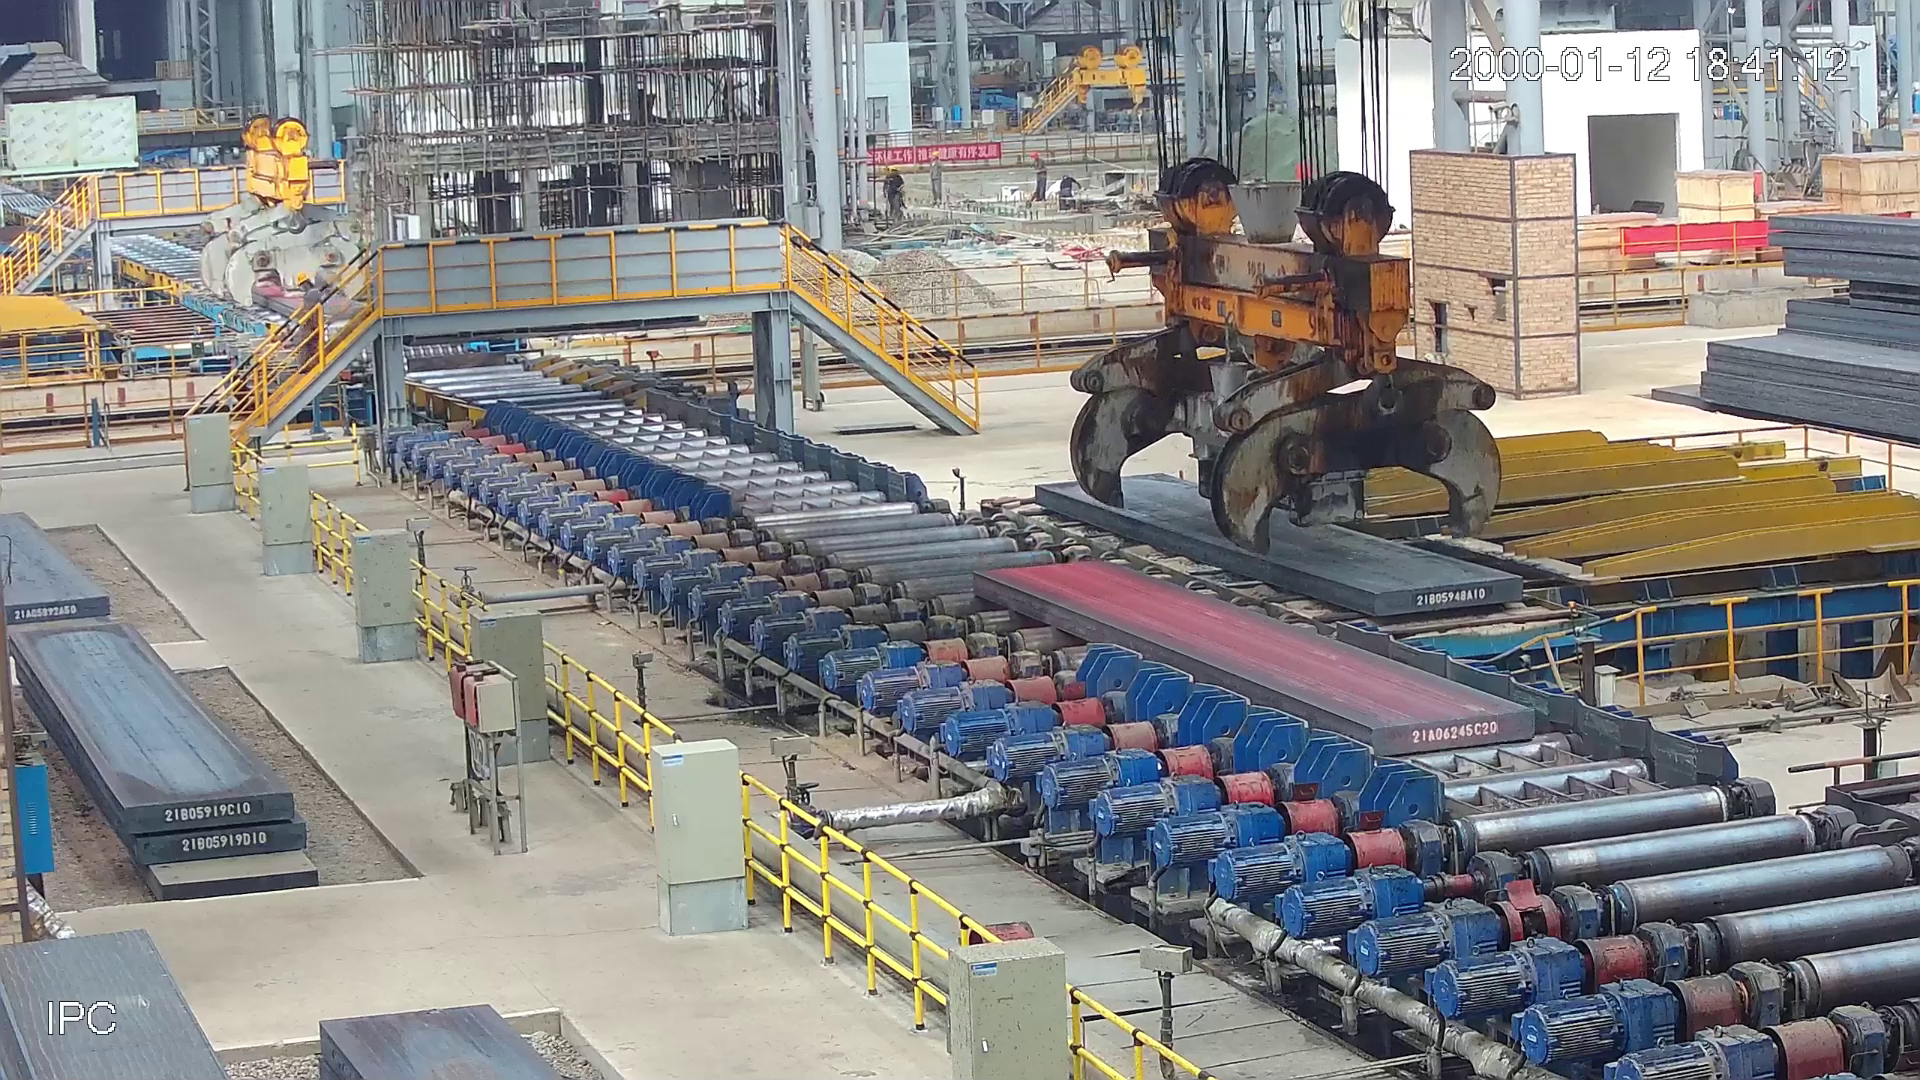craneandslab: (1027, 153, 1531, 626), (193, 111, 381, 330)
slab: (957, 555, 1542, 764)
